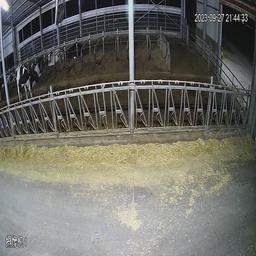cow: (7, 62, 34, 107), (31, 47, 46, 78), (49, 38, 62, 67), (67, 36, 82, 61)
